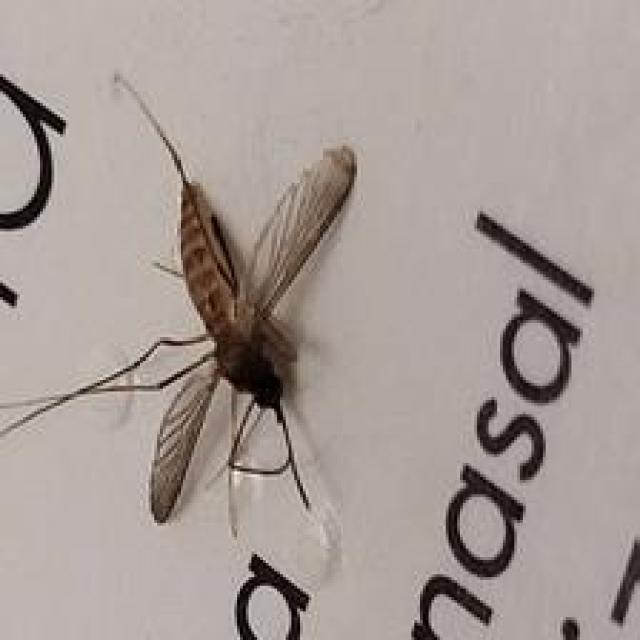Culex: (0, 70, 360, 547)
